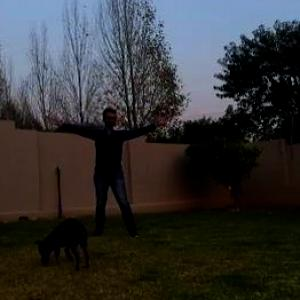takeoff: (36, 102, 163, 246)
